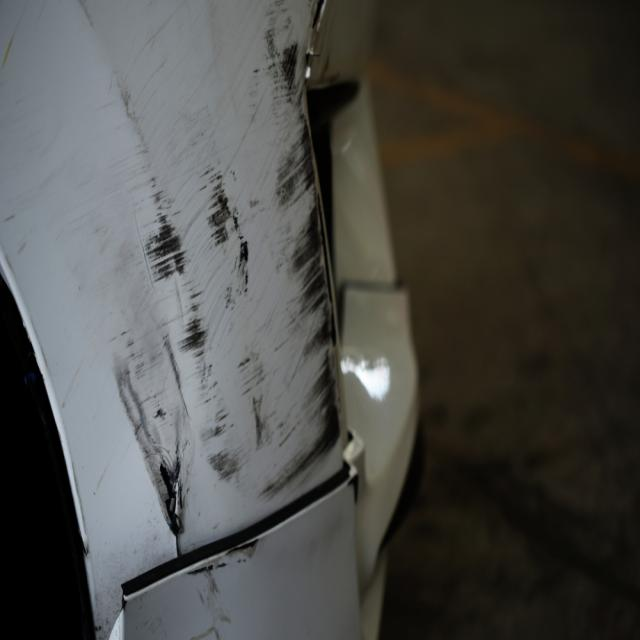scratch: (0, 0, 342, 548), (188, 542, 260, 640)
